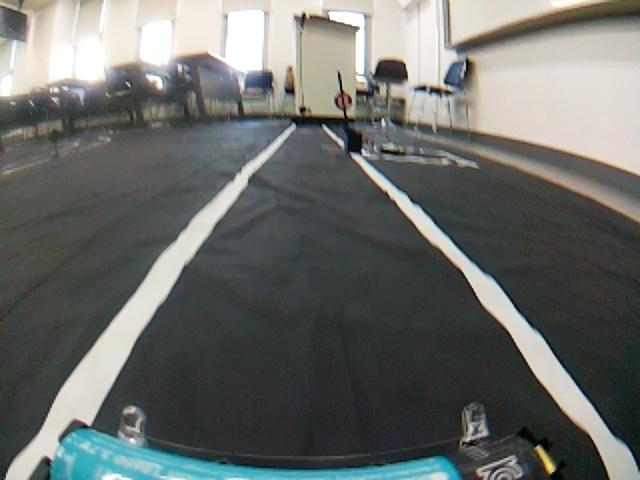straight: (24, 167, 598, 476)
